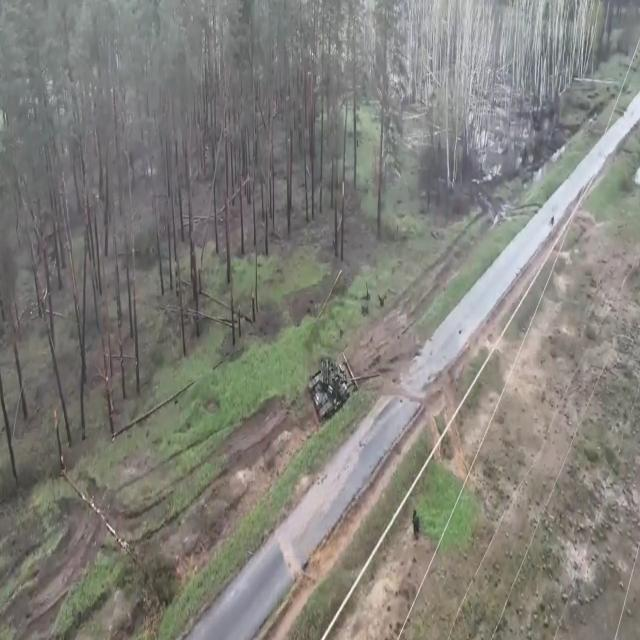MBT: (308, 356, 382, 426)
